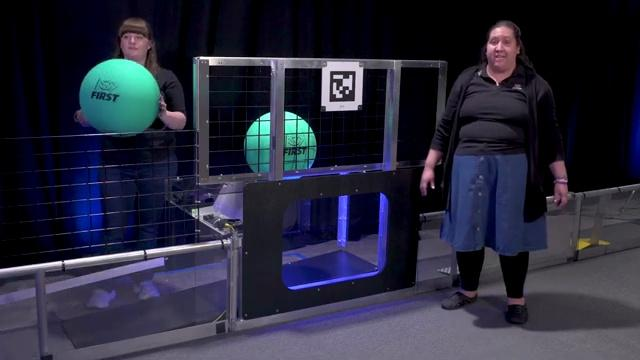ALGAE: (78, 57, 160, 135), (243, 111, 315, 180)
